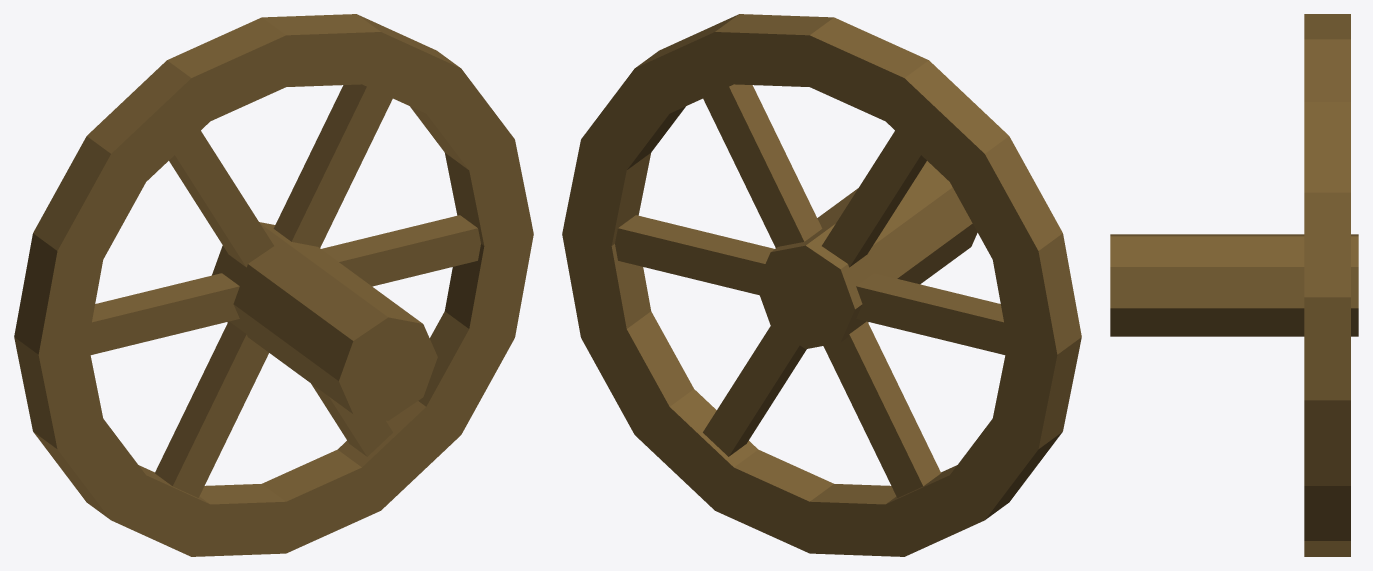
File: valve_wheel.fbx
3 renders of one model, left to right at view 1: azimuth 30°, elevation 25°; view 2: azimuth 150°, elevation 25°; view 3: azimuth 270°, elevation 25°, orthographic. The views are drawn at different scales.
Visible parts, largest first — view 1: valve_wheel; view 2: valve_wheel; view 3: valve_wheel.
Part boxes in pixels (x1,y1,x2,y2): valve_wheel: (14, 14, 533, 556); valve_wheel: (562, 14, 1081, 556); valve_wheel: (1110, 14, 1358, 556).
Bounding box in the file's own units: 350 × 350 × 160.
